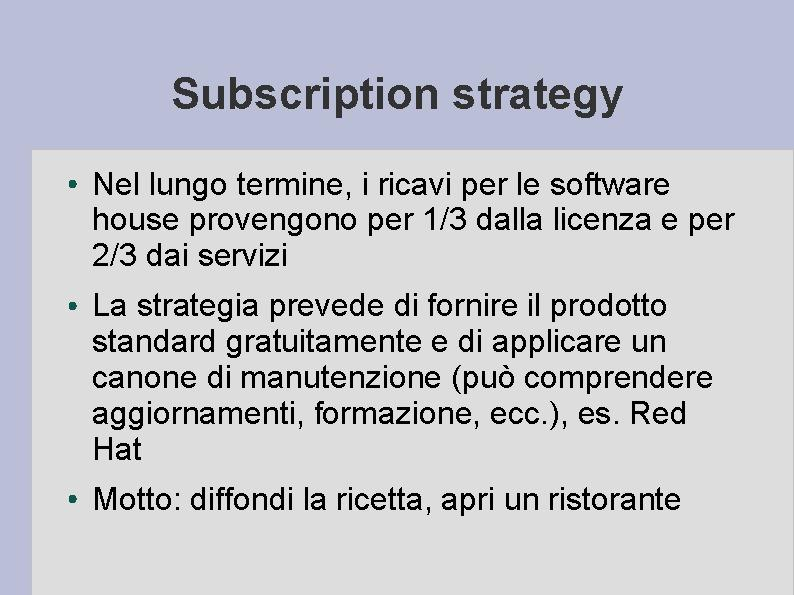paragraph: (50, 153, 759, 591)
title: (162, 60, 648, 133)
